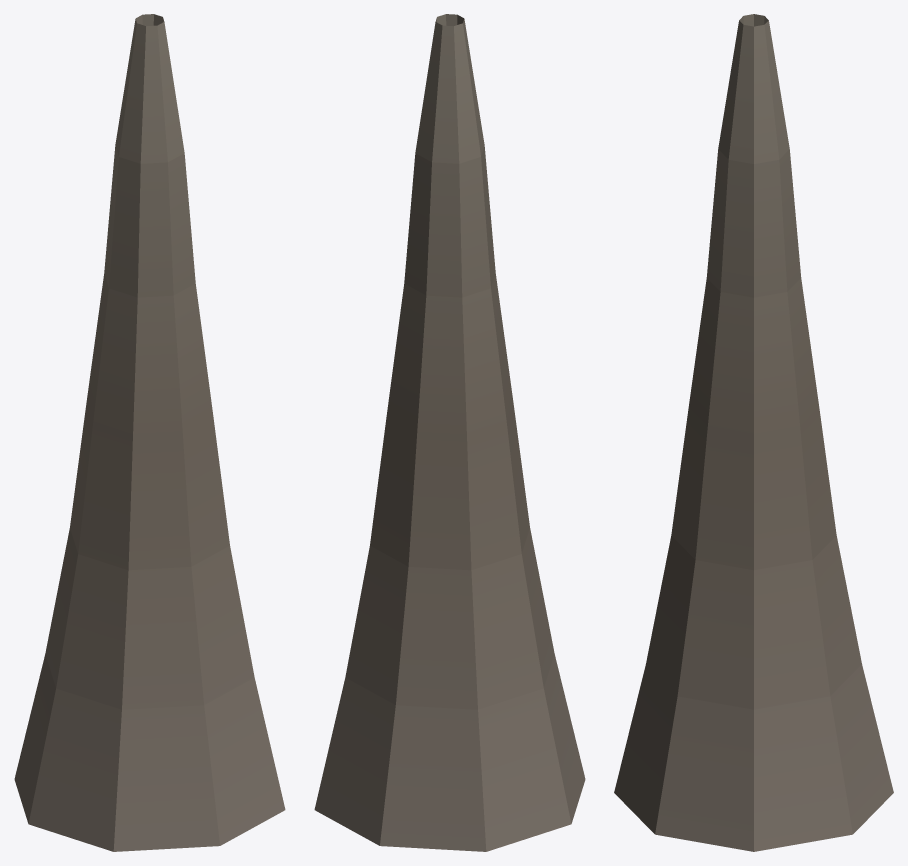
File: stalagmite_recipe_v1.glb
3 views of the same model, side by side, from view 1: azimuth 30°, elevation 25°; view 2: azimuth 150°, elevation 25°; view 3: azimuth 270°, elevation 25° (orthographic).
Parts seen in each view (by area): view 1: world; view 2: world; view 3: world.
Part boxes in pixels (x1,y1,x2,y2): world: (14,14,285,851); world: (314,14,585,851); world: (614,14,893,851).
Bounding box in the file's own units: 0.3283 × 1 × 0.3283.
